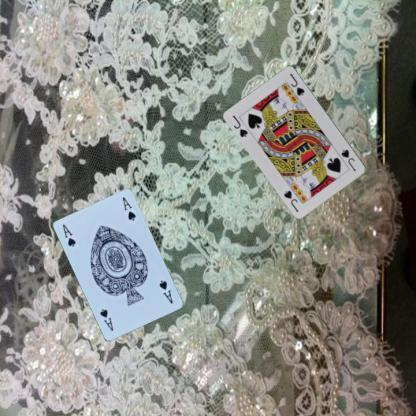As: (156, 278, 174, 305), (60, 222, 78, 248)
Js: (230, 112, 249, 138), (339, 147, 357, 173)
